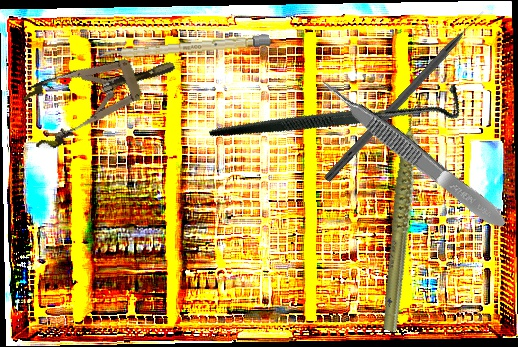Handpiece: (335, 99, 475, 334)
Hook Surgical: (207, 4, 470, 221), (323, 8, 489, 185)
Scalpel Handle: (99, 34, 271, 61)
Speculum: (15, 34, 187, 155)
Tissue Forceps: (316, 70, 511, 236)
